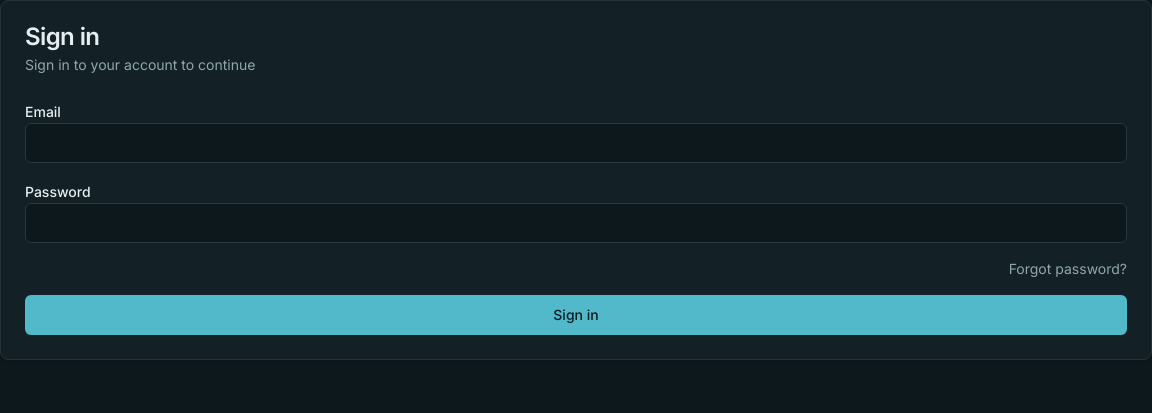
Test: LoginForm rate limiting › shows human-readable lockout message on 429 with retryAfter
Type "a@b.com" into the field labelled "Email" at (576, 143), box [25,123,1127,163]
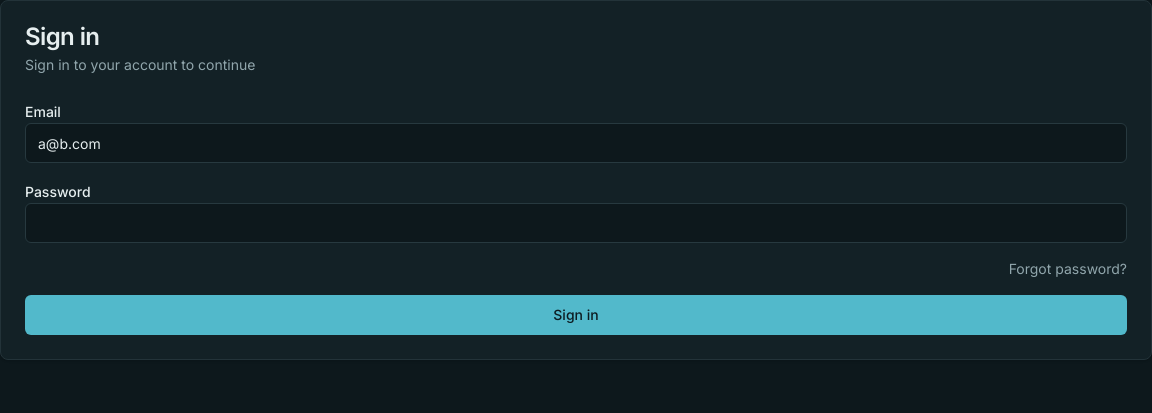
Type "Password1!" into the password field labelled "Password" at (576, 223), box [25,203,1127,243]
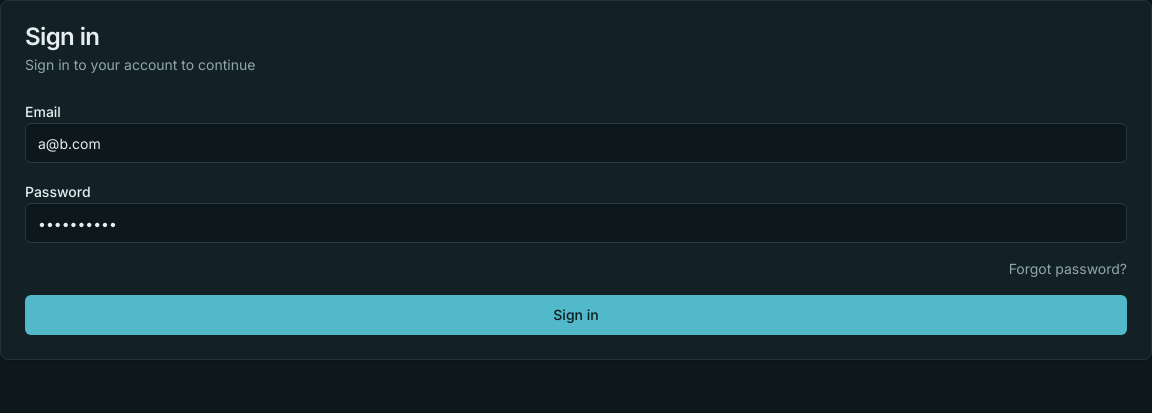
Submit the form, box [25,99,1127,335]
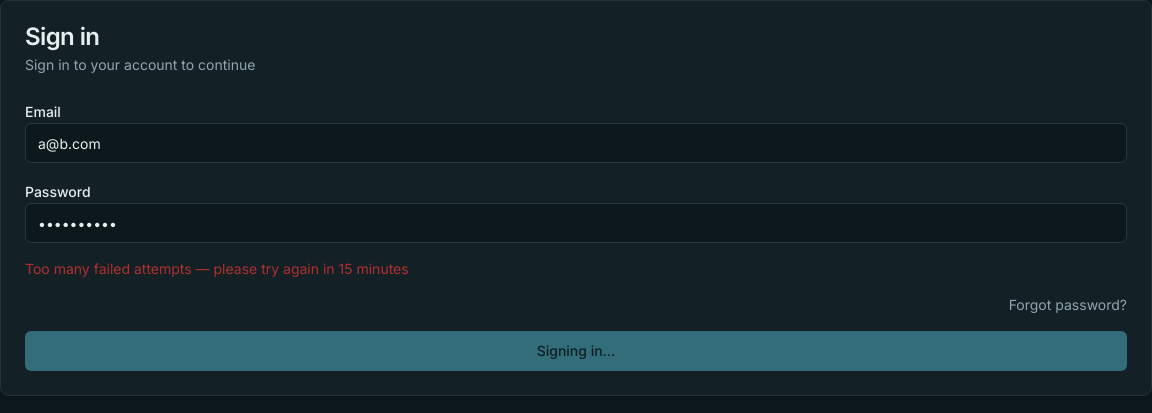
Expected: the text "Too many failed attempts — please try again in 15 minutes" is shown, [25,260,409,277]
